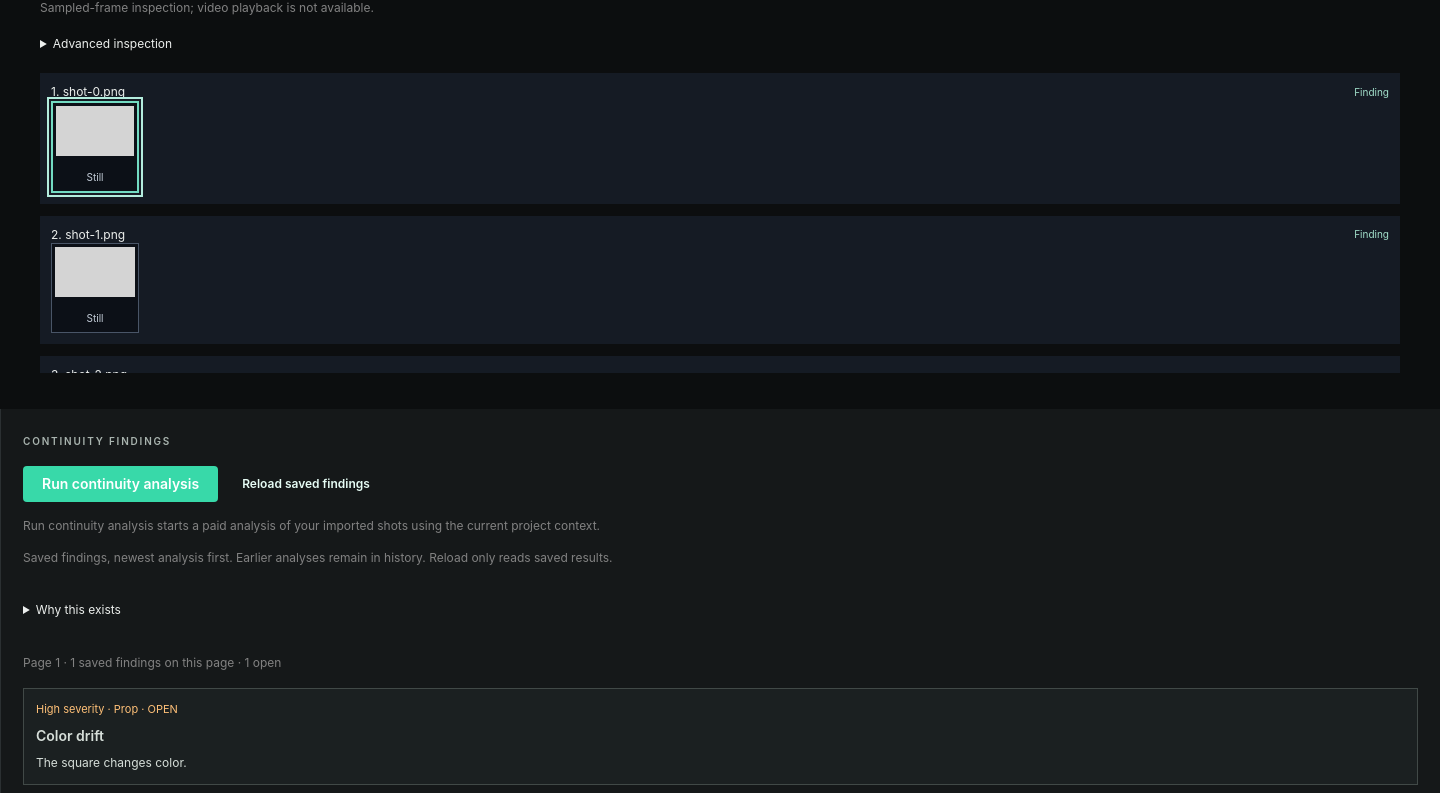
Scenario: keeps contextual roadmap help collapsed and clearly separate from current capabilities
(page scrolled)
expect the text "Planned: Source Monitor" is not shown: met
Click the heading "Why this exists".
click(78, 610)  # box x1=36 y1=602 x2=121 y2=617
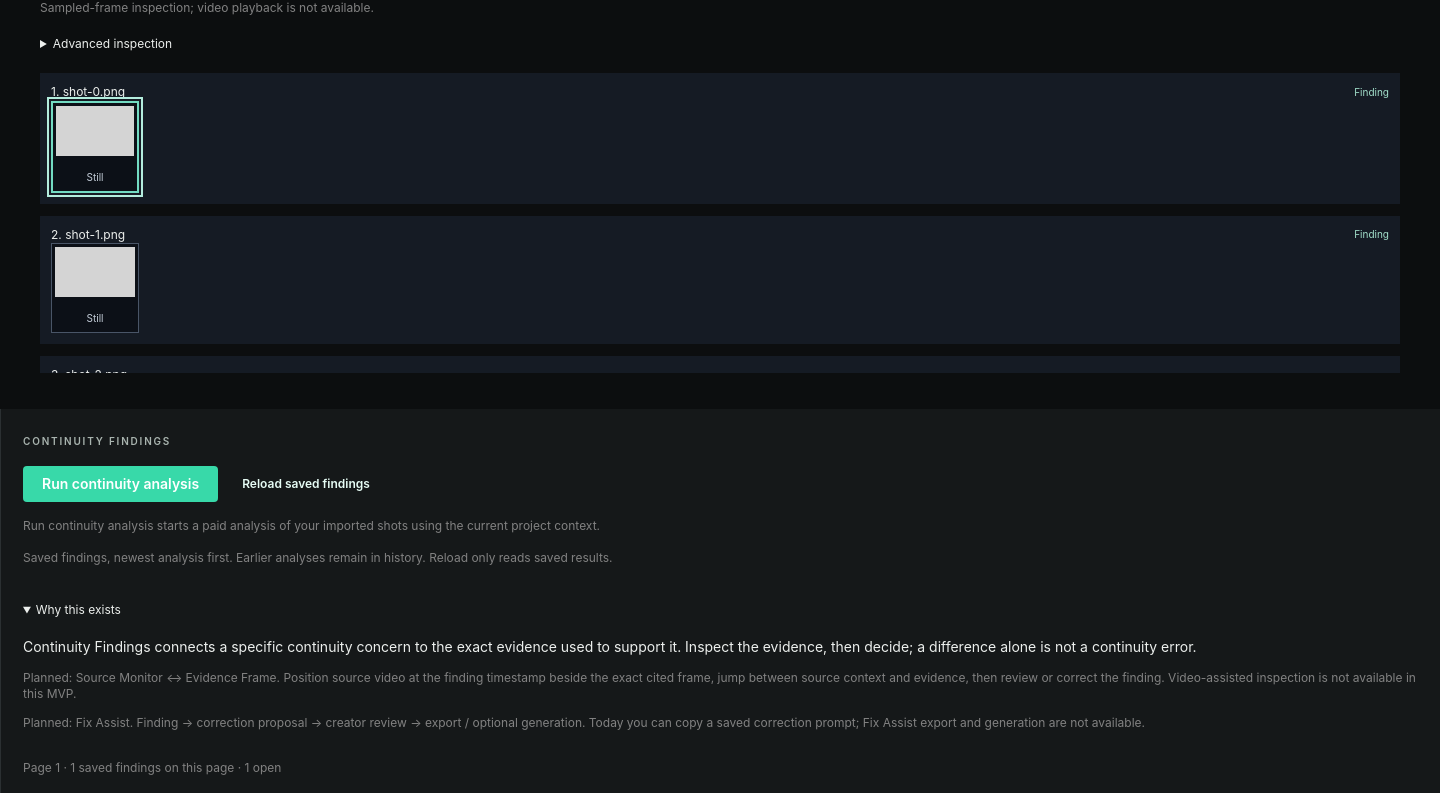
expect the text "connects a specific continuity concern" is shown: met, box x1=23 y1=638 x2=1197 y2=655
expect the text "Planned: Source Monitor" shows "not available in this MVP": met, box x1=23 y1=670 x2=1416 y2=701
expect the text "Planned: Fix Assist" shows "export and generation are not available": met, box x1=23 y1=715 x2=1145 y2=730
